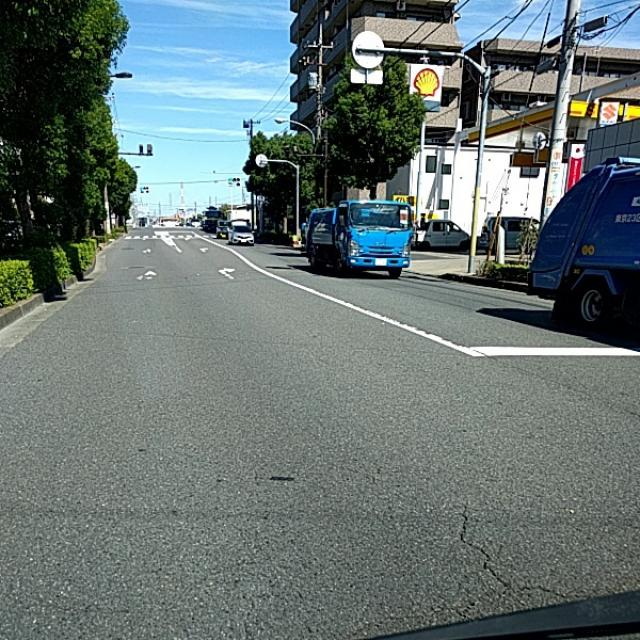pothole: (448, 480, 501, 576)
